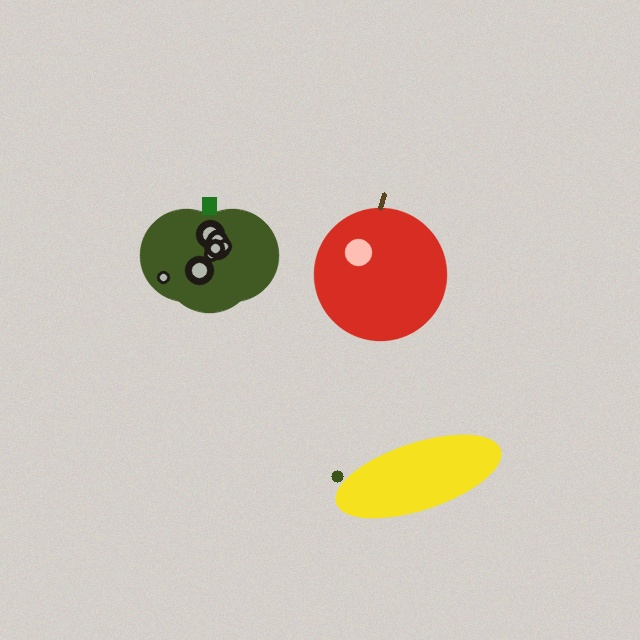Fresh apple: (314, 194, 446, 340)
Fresh banana: (328, 435, 508, 517)
Rotten bell pepper: (140, 197, 278, 312)
